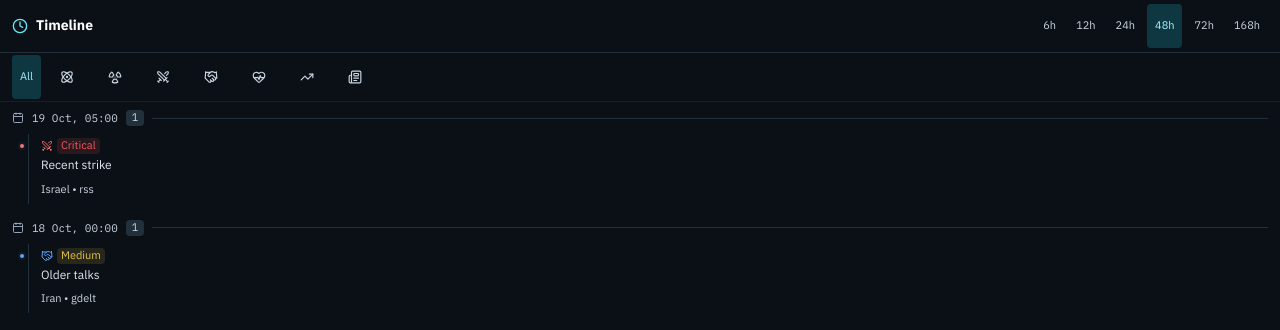
Test: <Timeline> › filters by category and can toggle the filter off
Click the button named "Military" at point(163, 77), box 141,55 -> 185,99
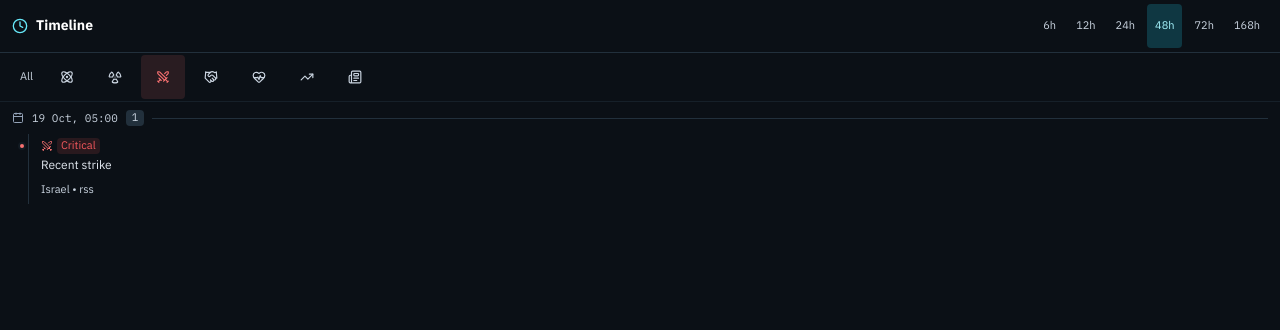
Expected: the text "Recent strike" is shown, 41,156 -> 112,174
Expected: the button "Older talks" is gone
Click the button named "Military" at point(163, 77), box 141,55 -> 185,99
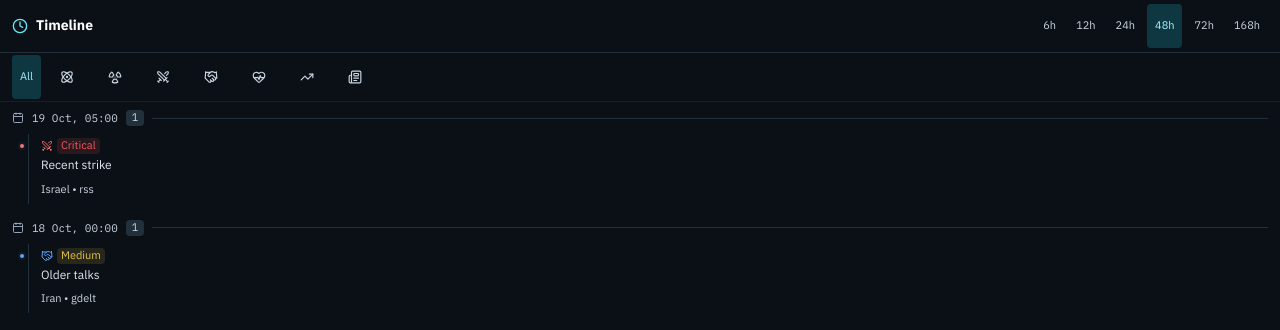
Expected: the text "Older talks" is shown, 41,266 -> 100,284
